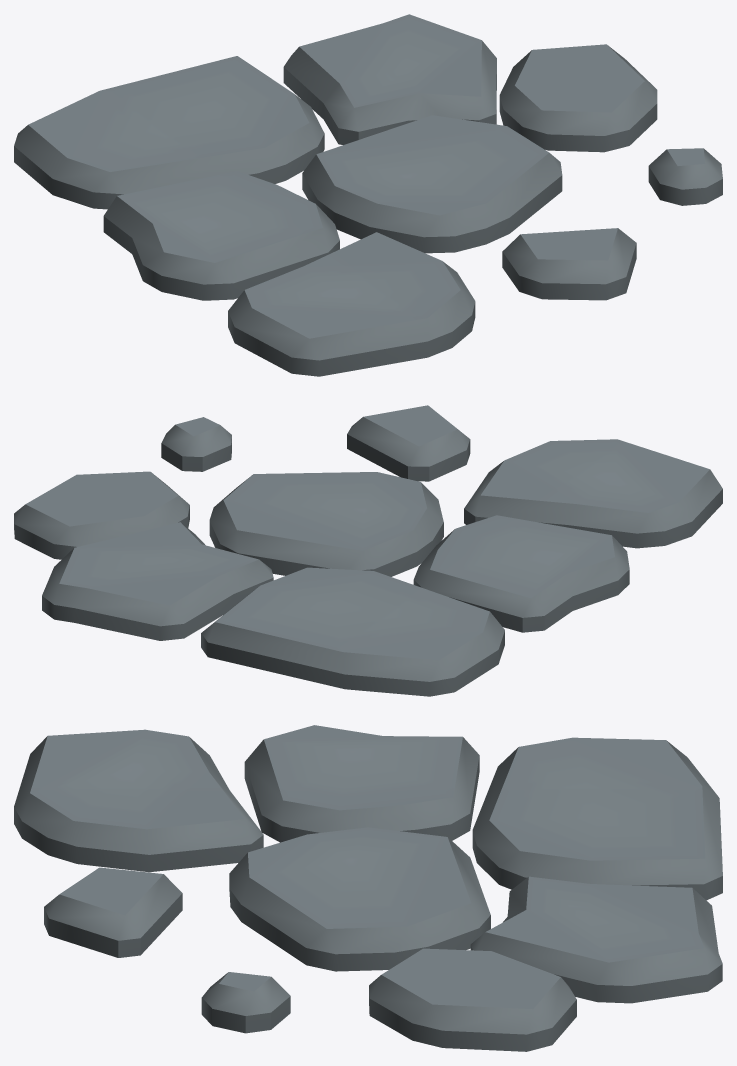
The model's file is kaykit-halloween-bits-path-c.glb.
The picture shows the model from 3 angles, top to bottom: view 1: azimuth 30°, elevation 25°; view 2: azimuth 150°, elevation 25°; view 3: azimuth 270°, elevation 25°; orthographic projection. The views are drawn at different scales.
Visible parts, largest first — view 1: path_C; view 2: path_C; view 3: path_C.
Boxes of the visible parts, x1,y1,x2,y2 form: path_C: (14,14,722,376); path_C: (14,405,722,696); path_C: (14,725,722,1051).
Size of the model in its own units: 1.85 by 0.1 by 1.86.
1 material, 1 textured.
